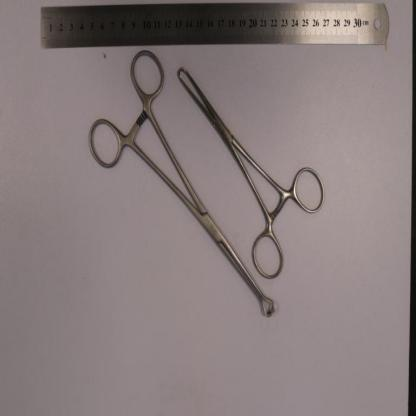8 Babcock Tissue Forceps: (86, 43, 275, 318)
Allis Tissue Forceps: (177, 66, 326, 283)
